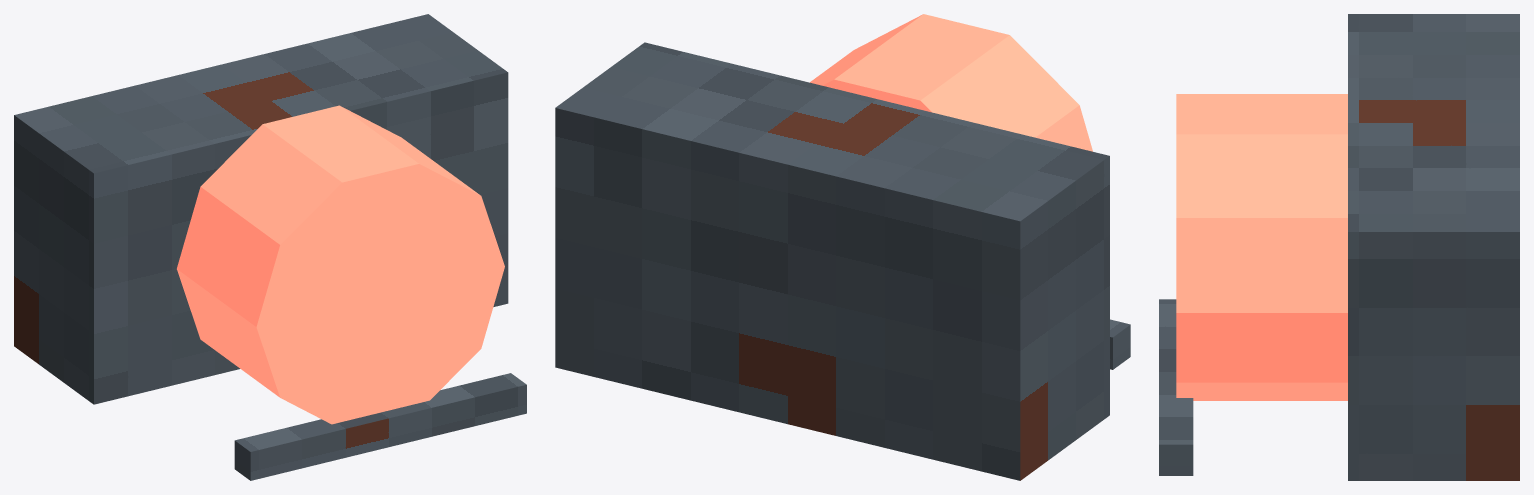
File: alarm.gltf
3 views of the same model, side by side, from view 1: azimuth 30°, elevation 25°; view 2: azimuth 150°, elevation 25°; view 3: azimuth 270°, elevation 25° (orthographic). The views are drawn at different scales.
Parts seen in each view (by area): view 1: alarm; view 2: alarm; view 3: alarm.
Part boxes in pixels (left/top/right/bottom): alarm: left=14, top=14, right=526, bottom=480; alarm: left=555, top=14, right=1130, bottom=480; alarm: left=1159, top=14, right=1519, bottom=480.
Size of the model in its own units: 0.3 by 0.1856 by 0.21.
2 materials, 1 textured.
